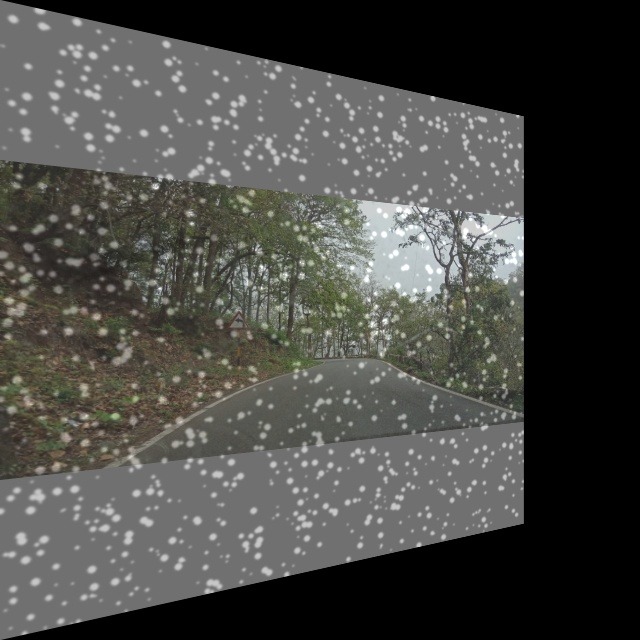Left_Hand_Curve: (227, 308, 249, 334)
